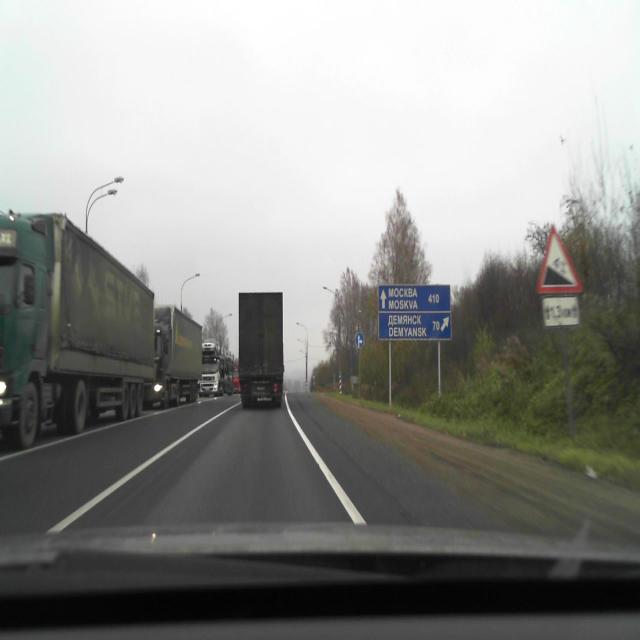road sign: (535, 221, 583, 293), (378, 284, 452, 311), (378, 312, 452, 339), (542, 297, 580, 327), (388, 340, 392, 411), (439, 340, 441, 396)
